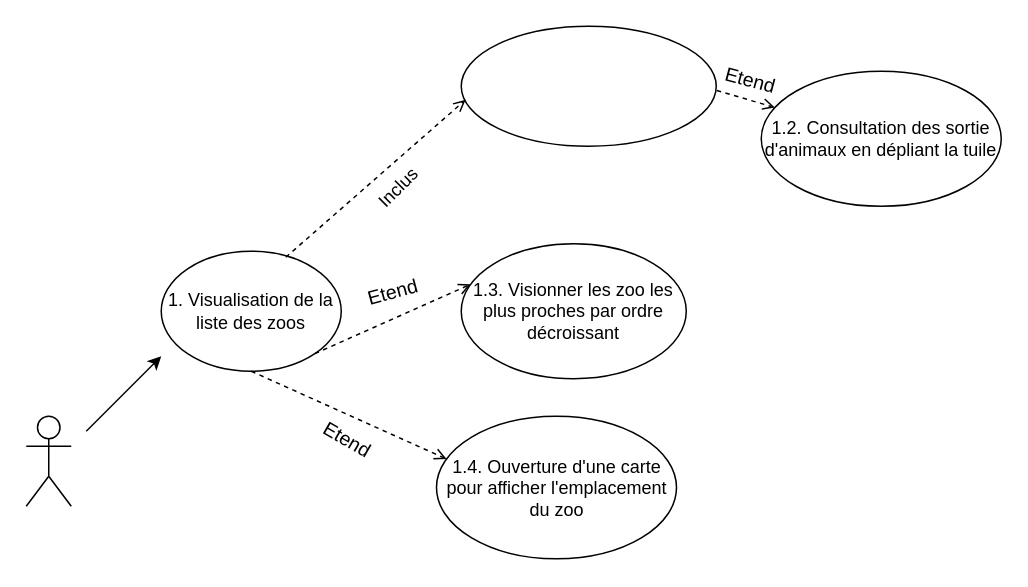
The diagram is 1028 pixels wide and 587 high, and some of its shapes have lost their labels. Each missing label, with the centre of its shape:
1.1. Consultation des sorties d'animaux dans le zoo sans en déplié la tuile: the point at 588,85
Client: the point at 48,460
